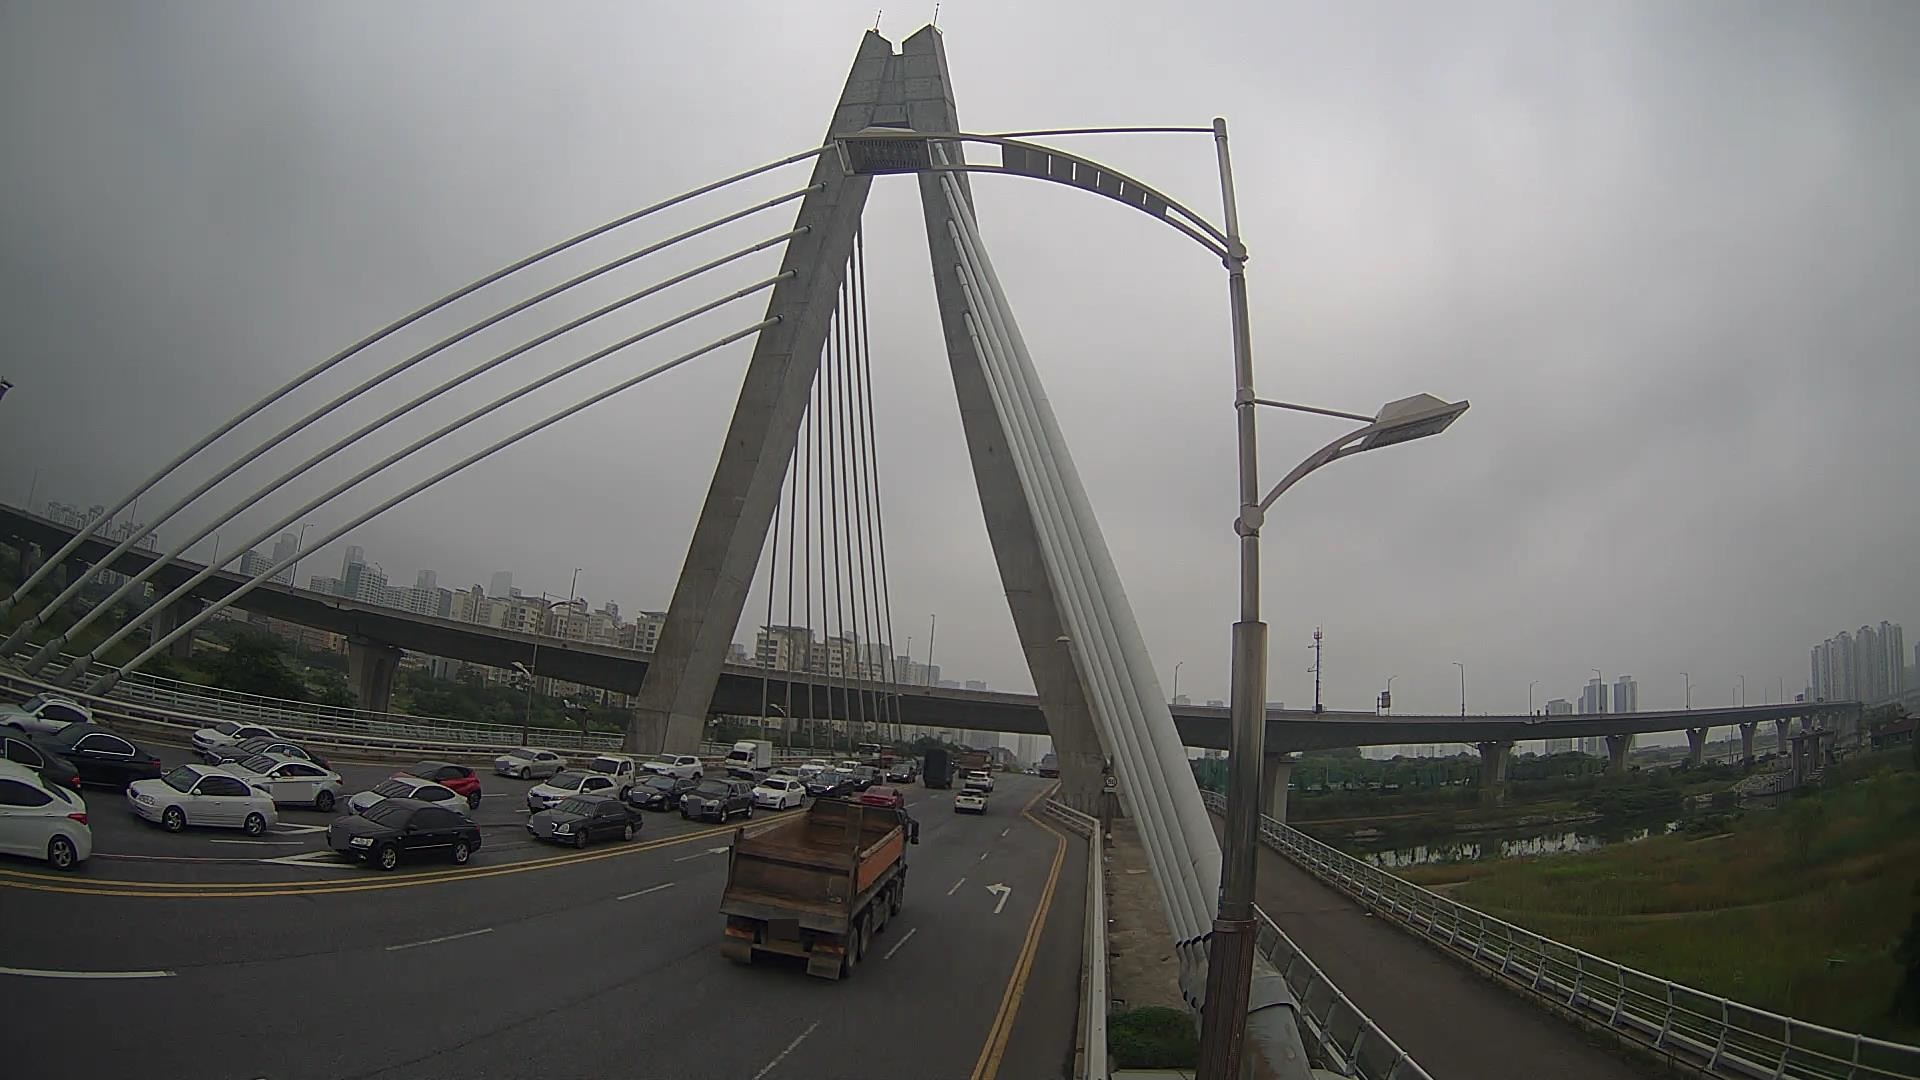정상차량: (719, 796, 919, 980)
